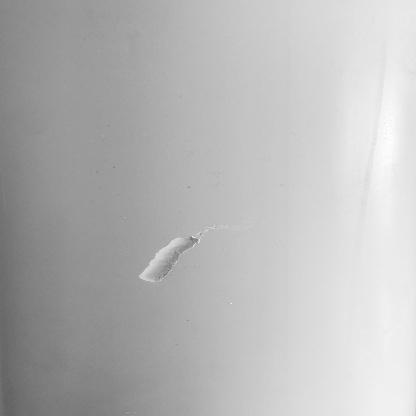sunshang: (134, 231, 213, 283)
